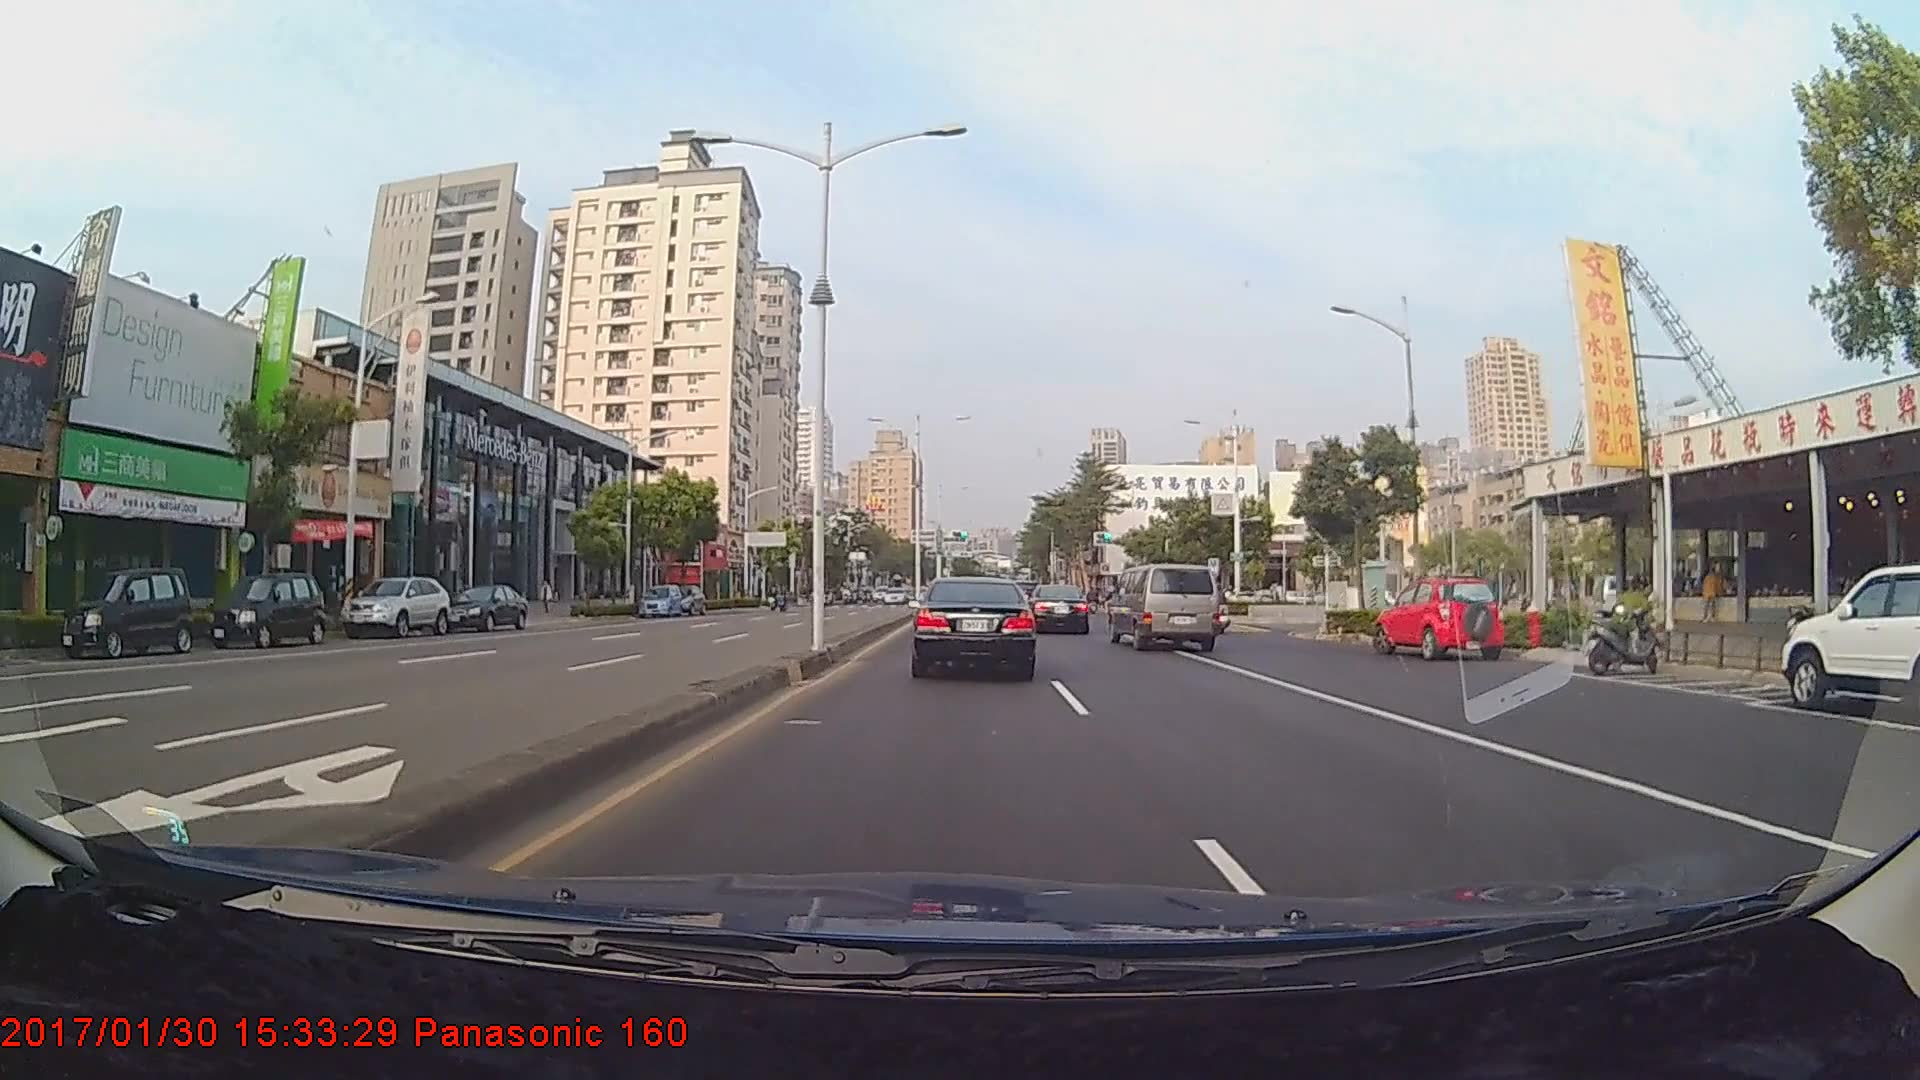pedestrian: (1701, 563, 1727, 628)
vehicle: (1778, 565, 1920, 722), (910, 575, 1035, 678), (58, 564, 193, 658), (1378, 575, 1497, 662), (1106, 562, 1220, 652), (343, 575, 450, 638), (241, 575, 325, 648), (442, 582, 527, 632), (1028, 584, 1090, 635), (636, 582, 681, 617)
